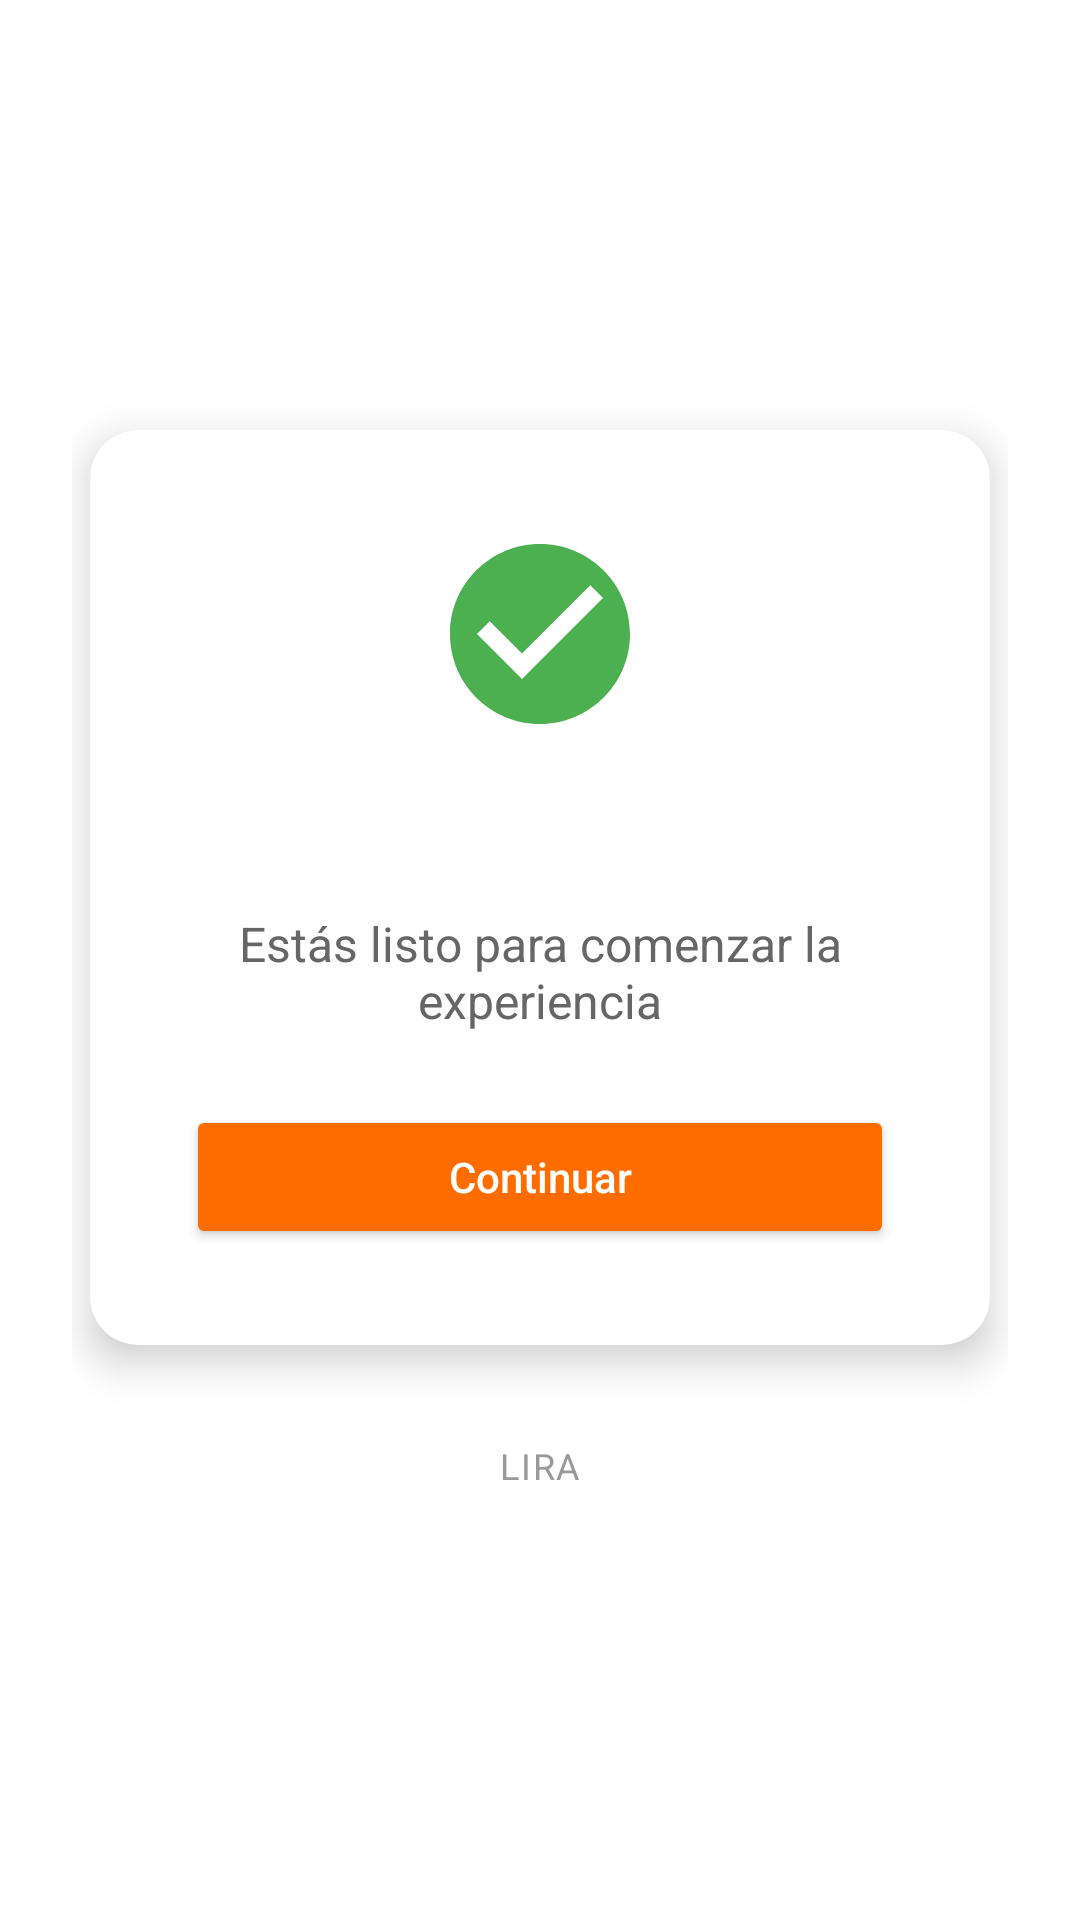

Named icons in this screenshot (1080px x 1920px) and their bounding boxes, (x1, y1, x2, y2):
check circle: (450, 544, 630, 724)
